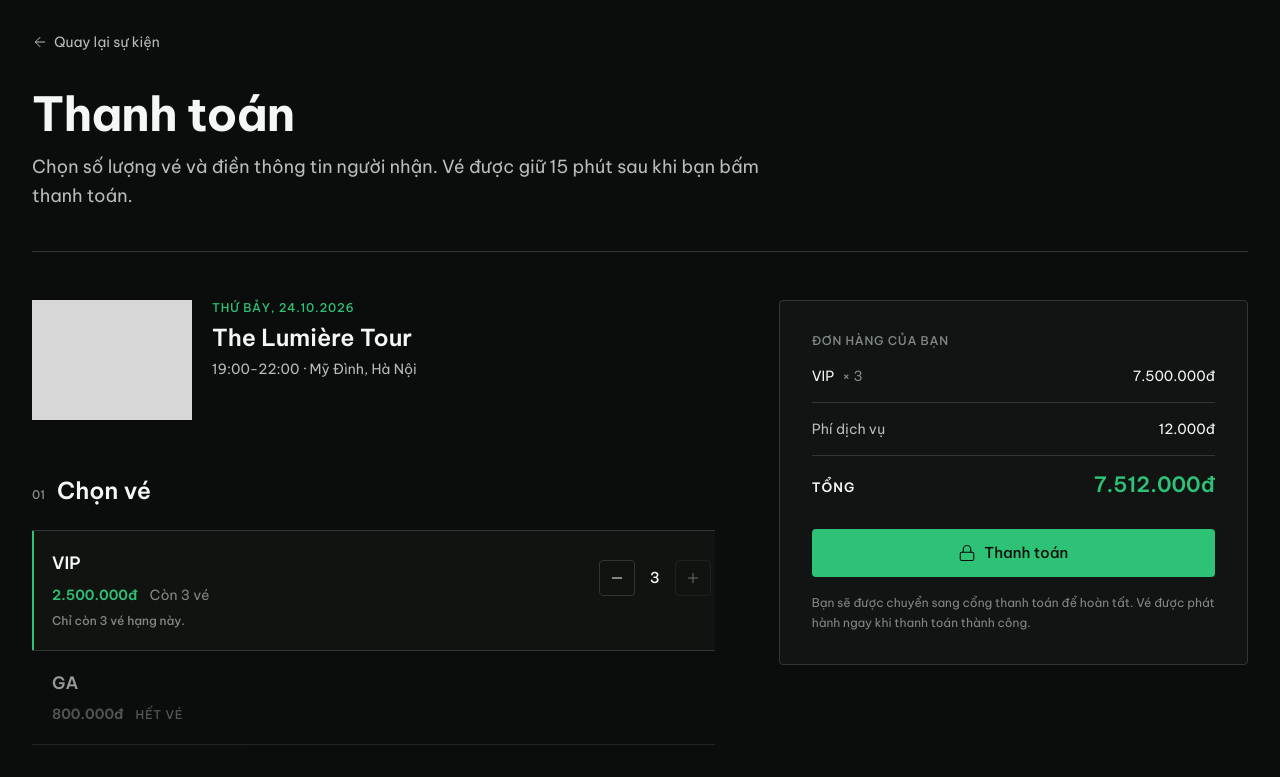
Test case: CheckoutPage › số lượng kẹp theo tồn kho, nút + tăng và lưu vào URL
Expected: the element with test id "order-total" reads "7.512.000đ", [1094,471,1215,498]
Click the button named "Bớt một vé VIP".
click(617, 578)  # box [599,560,635,596]
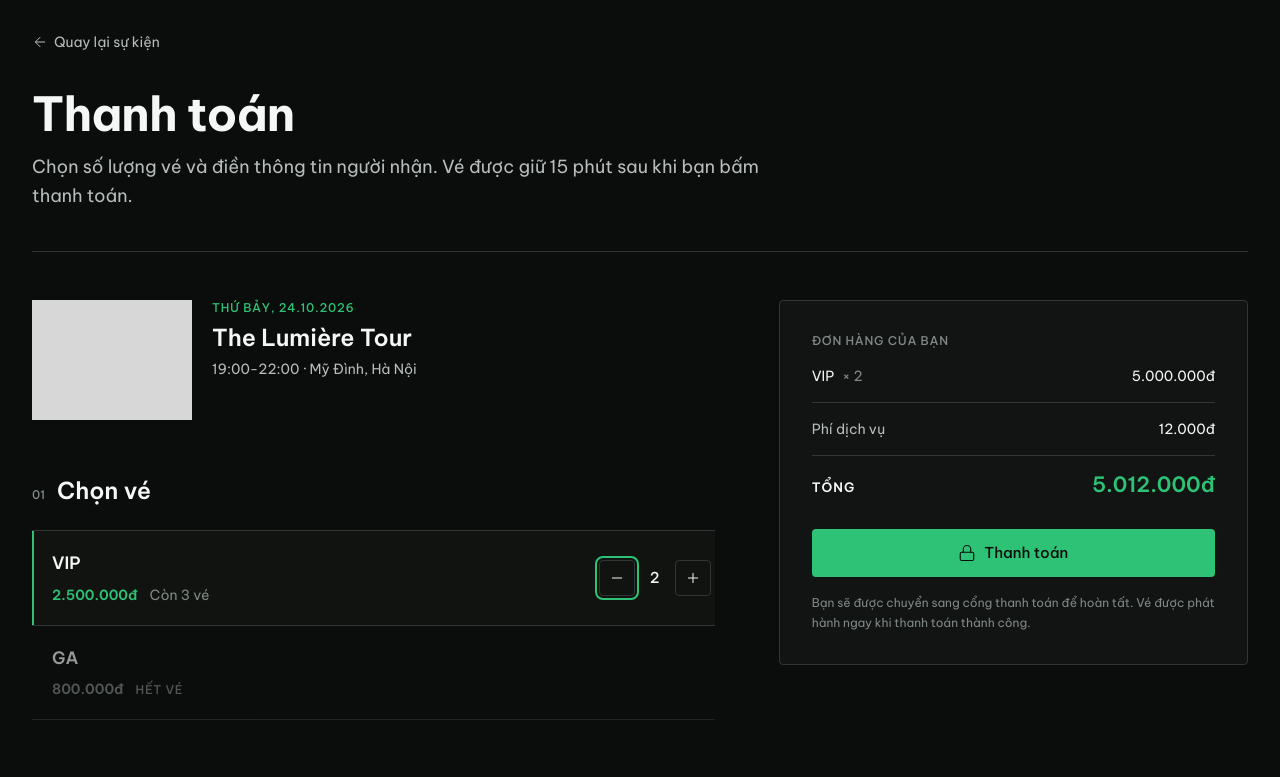
Result: the button named "Thêm một vé VIP" is enabled at [675,560,711,596]
